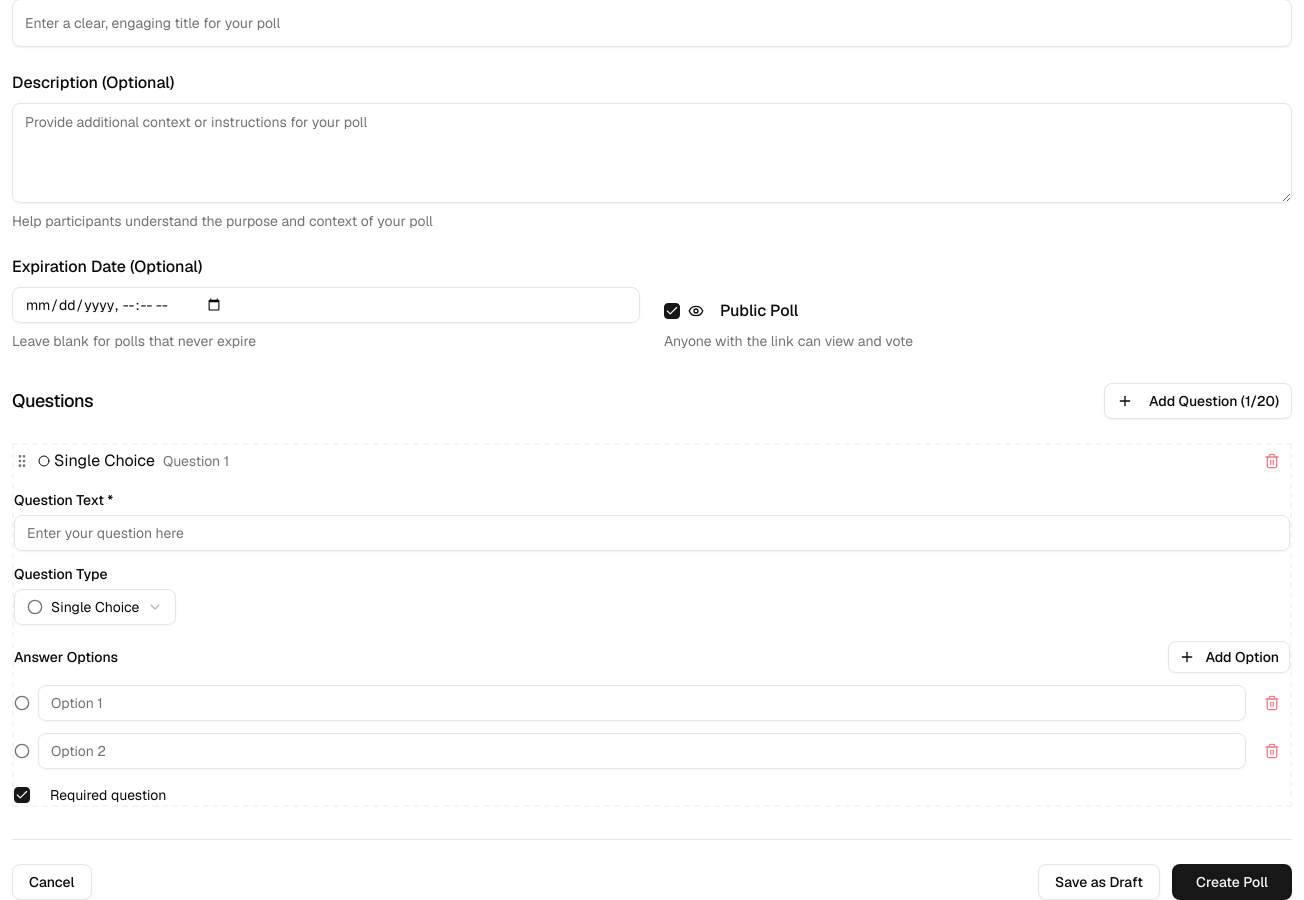
Scenario: CreatePollForm (short tests) › shows validation error if required fields are empty
The width and height of the screenshot is (1304, 900).
(page scrolled)
Step 1. Click the button "Create Poll" → {"x": 1232, "y": 882}, box [1172, 864, 1292, 899]
(page scrolled)
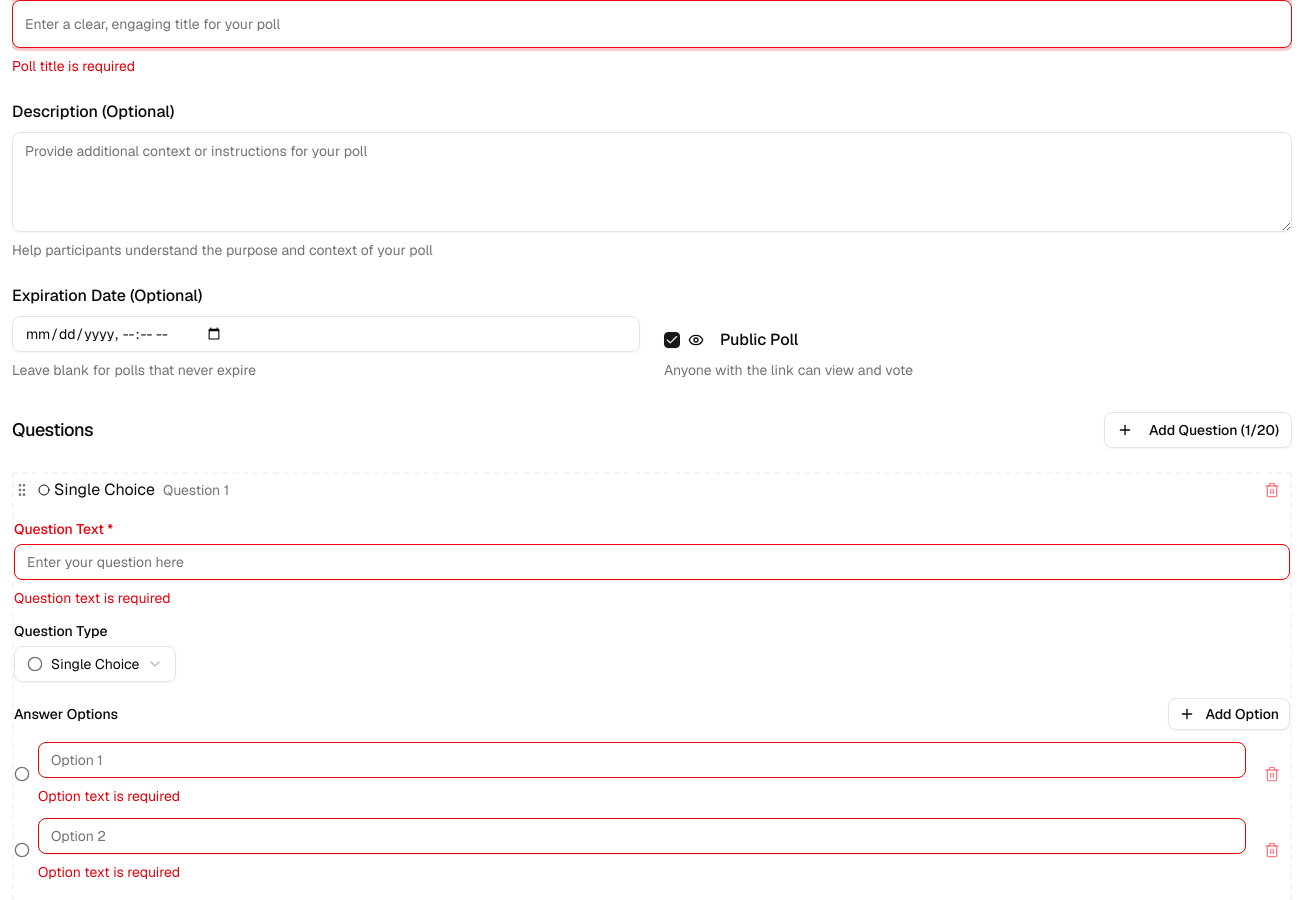
expect the text "Poll title is required" is shown: met, box [12, 57, 135, 75]
